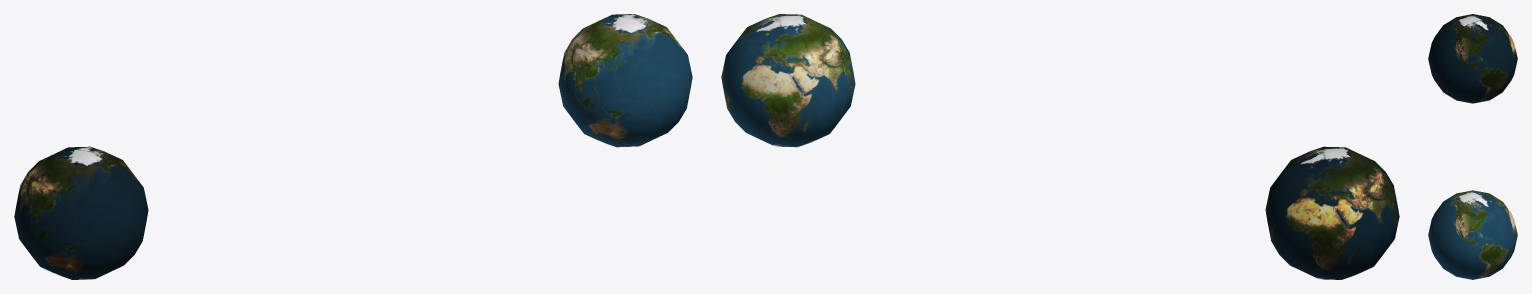
Rendered from earth.fbx.
3 views of the same model, side by side, from view 1: azimuth 30°, elevation 25°; view 2: azimuth 150°, elevation 25°; view 3: azimuth 270°, elevation 25° (orthographic). The views are drawn at different scales.
Visible parts, largest first — view 1: Cube, Cube.006; view 2: Cube, Cube.006; view 3: Cube, Cube.006.
Boxes of the visible parts, x1,y1,x2,y2 form: Cube: (558,14,692,147); Cube.006: (14,146,148,279); Cube: (721,14,855,147); Cube.006: (1265,146,1399,279); Cube: (1428,190,1517,279); Cube.006: (1428,14,1517,103).
Bounding box in the file's own units: 86526 × 15316 × 15316.
